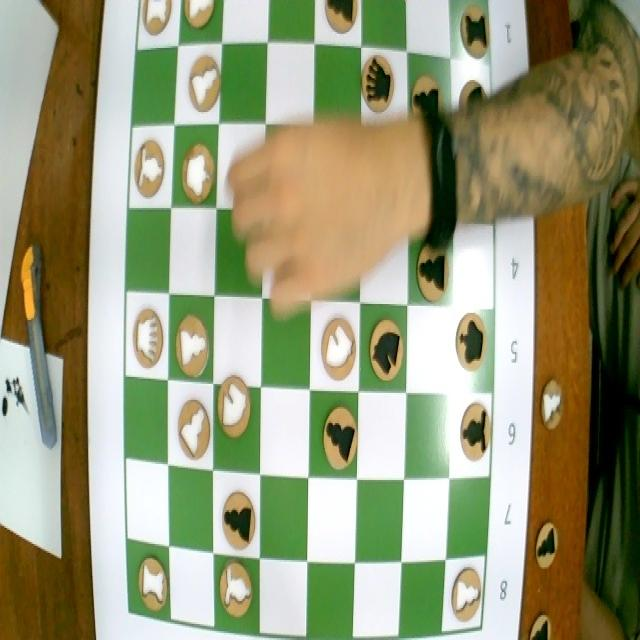chess-pieces: (178, 135, 222, 211), (126, 298, 167, 378), (414, 226, 451, 312), (366, 310, 405, 388), (172, 306, 208, 388), (320, 306, 356, 386), (214, 368, 254, 439), (220, 558, 257, 631), (322, 406, 360, 474), (356, 48, 396, 112), (447, 558, 482, 628), (408, 65, 444, 132), (131, 134, 167, 200), (218, 487, 256, 548), (178, 398, 212, 466), (454, 310, 488, 374), (188, 57, 224, 114), (461, 2, 493, 66), (461, 396, 492, 462), (135, 551, 169, 611), (139, 0, 174, 44), (323, 0, 358, 37), (184, 0, 215, 31)
